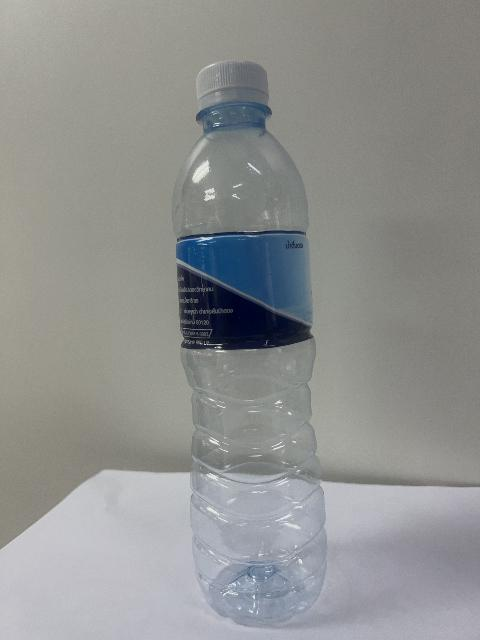bottle: (173, 61, 326, 625)
